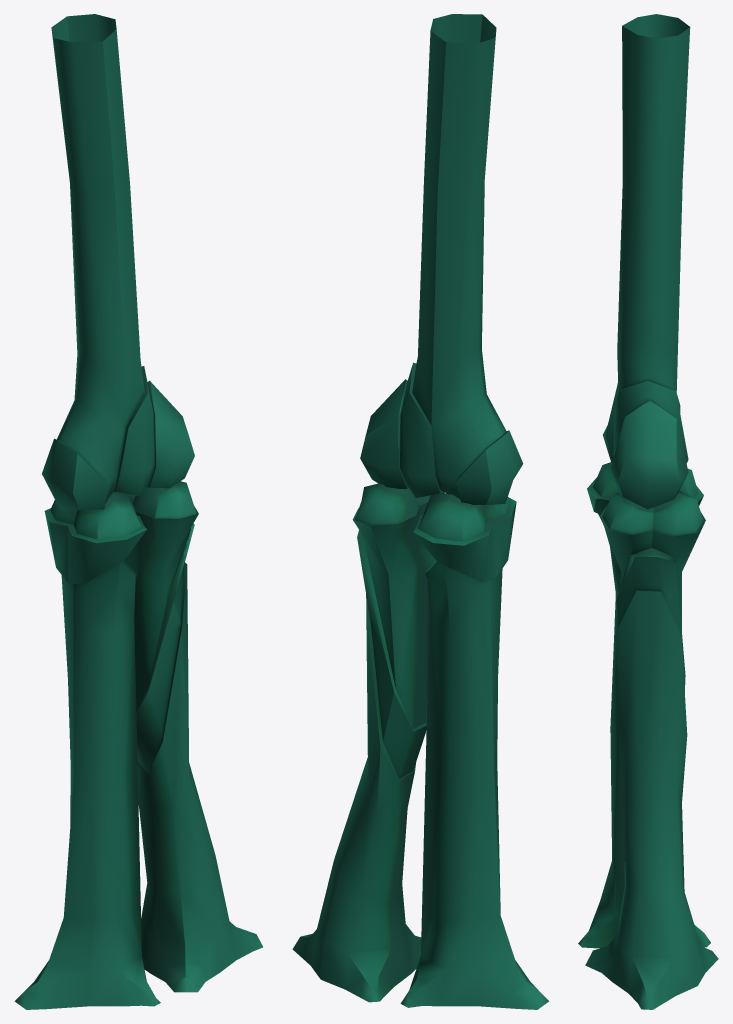
File: pillar 1.fbx
3 renders of one model, left to right at view 1: azimuth 30°, elevation 25°; view 2: azimuth 150°, elevation 25°; view 3: azimuth 270°, elevation 25°, orthographic. The views are drawn at different scales.
Parts seen in each view (by area): view 1: pillar_geo; view 2: pillar_geo; view 3: pillar_geo.
Boxes of the visible parts, <box> form: pillar_geo: <box>14,14,262,1009</box>; pillar_geo: <box>292,14,548,1009</box>; pillar_geo: <box>578,14,718,1009</box>.
Bounding box in the file's own units: 186 × 697 × 98.16.
